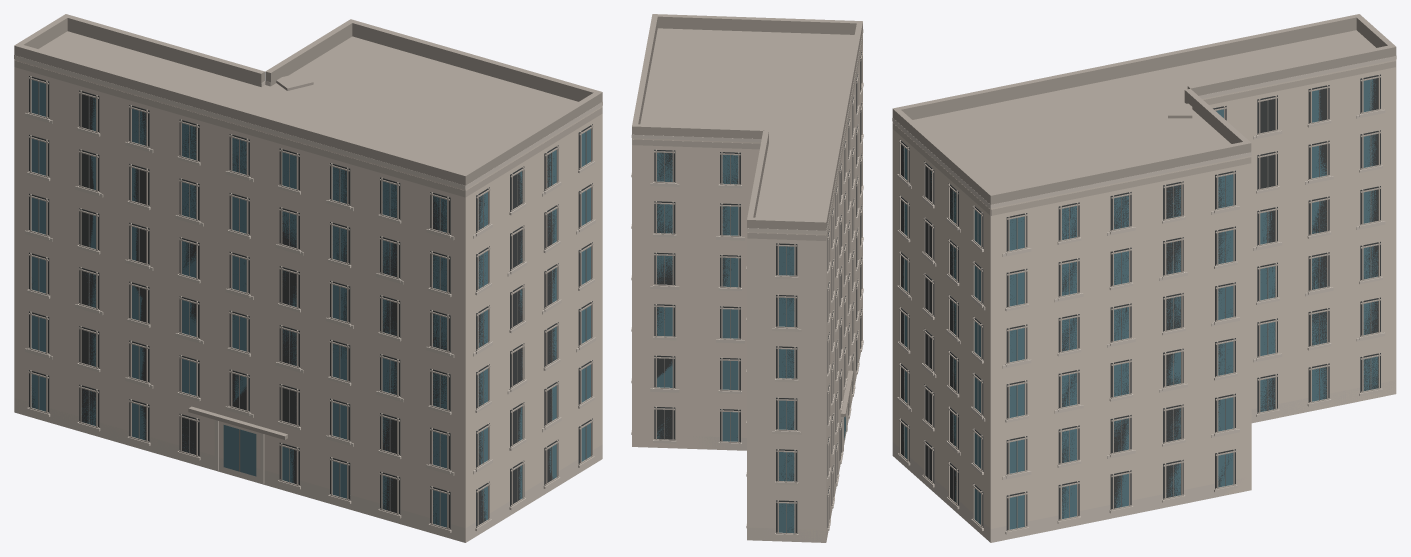
The model's file is cop_misto_loja_terrea_01__way_586972700.fbx.
3 views of the same model, side by side, from view 1: azimuth 30°, elevation 25°; view 2: azimuth 150°, elevation 25°; view 3: azimuth 270°, elevation 25° (orthographic). The views are drawn at different scales.
Parts seen in each view (by area): view 1: cop_misto_loja_terrea_01__way_586972700_wall, cop_misto_loja_terrea_01__way_586972700_roof, cop_misto_loja_terrea_01__way_586972700_shadow, cop_misto_loja_terrea_01__way_586972700_glass, cop_misto_loja_terrea_01__way_586972700_trim, cop_misto_loja_terrea_01__way_586972700_stone, cop_misto_loja_terrea_01__way_586972700_metal; view 2: cop_misto_loja_terrea_01__way_586972700_wall, cop_misto_loja_terrea_01__way_586972700_roof, cop_misto_loja_terrea_01__way_586972700_trim, cop_misto_loja_terrea_01__way_586972700_shadow, cop_misto_loja_terrea_01__way_586972700_glass, cop_misto_loja_terrea_01__way_586972700_stone, cop_misto_loja_terrea_01__way_586972700_metal; view 3: cop_misto_loja_terrea_01__way_586972700_wall, cop_misto_loja_terrea_01__way_586972700_roof, cop_misto_loja_terrea_01__way_586972700_shadow, cop_misto_loja_terrea_01__way_586972700_glass, cop_misto_loja_terrea_01__way_586972700_trim, cop_misto_loja_terrea_01__way_586972700_stone, cop_misto_loja_terrea_01__way_586972700_metal.
Part boxes in pixels (bbox=[...]): cop_misto_loja_terrea_01__way_586972700_wall: bbox=[14, 59, 602, 542]; cop_misto_loja_terrea_01__way_586972700_roof: bbox=[14, 14, 602, 439]; cop_misto_loja_terrea_01__way_586972700_shadow: bbox=[29, 76, 592, 529]; cop_misto_loja_terrea_01__way_586972700_glass: bbox=[31, 80, 590, 527]; cop_misto_loja_terrea_01__way_586972700_trim: bbox=[14, 60, 602, 529]; cop_misto_loja_terrea_01__way_586972700_stone: bbox=[14, 55, 602, 542]; cop_misto_loja_terrea_01__way_586972700_metal: bbox=[38, 81, 586, 525]; cop_misto_loja_terrea_01__way_586972700_wall: bbox=[632, 41, 862, 542]; cop_misto_loja_terrea_01__way_586972700_roof: bbox=[632, 14, 862, 417]; cop_misto_loja_terrea_01__way_586972700_trim: bbox=[632, 35, 862, 534]; cop_misto_loja_terrea_01__way_586972700_shadow: bbox=[654, 50, 861, 533]; cop_misto_loja_terrea_01__way_586972700_glass: bbox=[657, 152, 845, 533]; cop_misto_loja_terrea_01__way_586972700_stone: bbox=[631, 29, 863, 542]; cop_misto_loja_terrea_01__way_586972700_metal: bbox=[664, 83, 857, 533]; cop_misto_loja_terrea_01__way_586972700_wall: bbox=[892, 59, 1396, 542]; cop_misto_loja_terrea_01__way_586972700_roof: bbox=[892, 14, 1396, 204]; cop_misto_loja_terrea_01__way_586972700_shadow: bbox=[899, 74, 1380, 530]; cop_misto_loja_terrea_01__way_586972700_glass: bbox=[903, 79, 1378, 529]; cop_misto_loja_terrea_01__way_586972700_trim: bbox=[892, 61, 1395, 531]; cop_misto_loja_terrea_01__way_586972700_stone: bbox=[892, 56, 1396, 542]; cop_misto_loja_terrea_01__way_586972700_metal: bbox=[904, 79, 1371, 528].
Size of the model in its own units: 2100 by 1869 by 2459.
